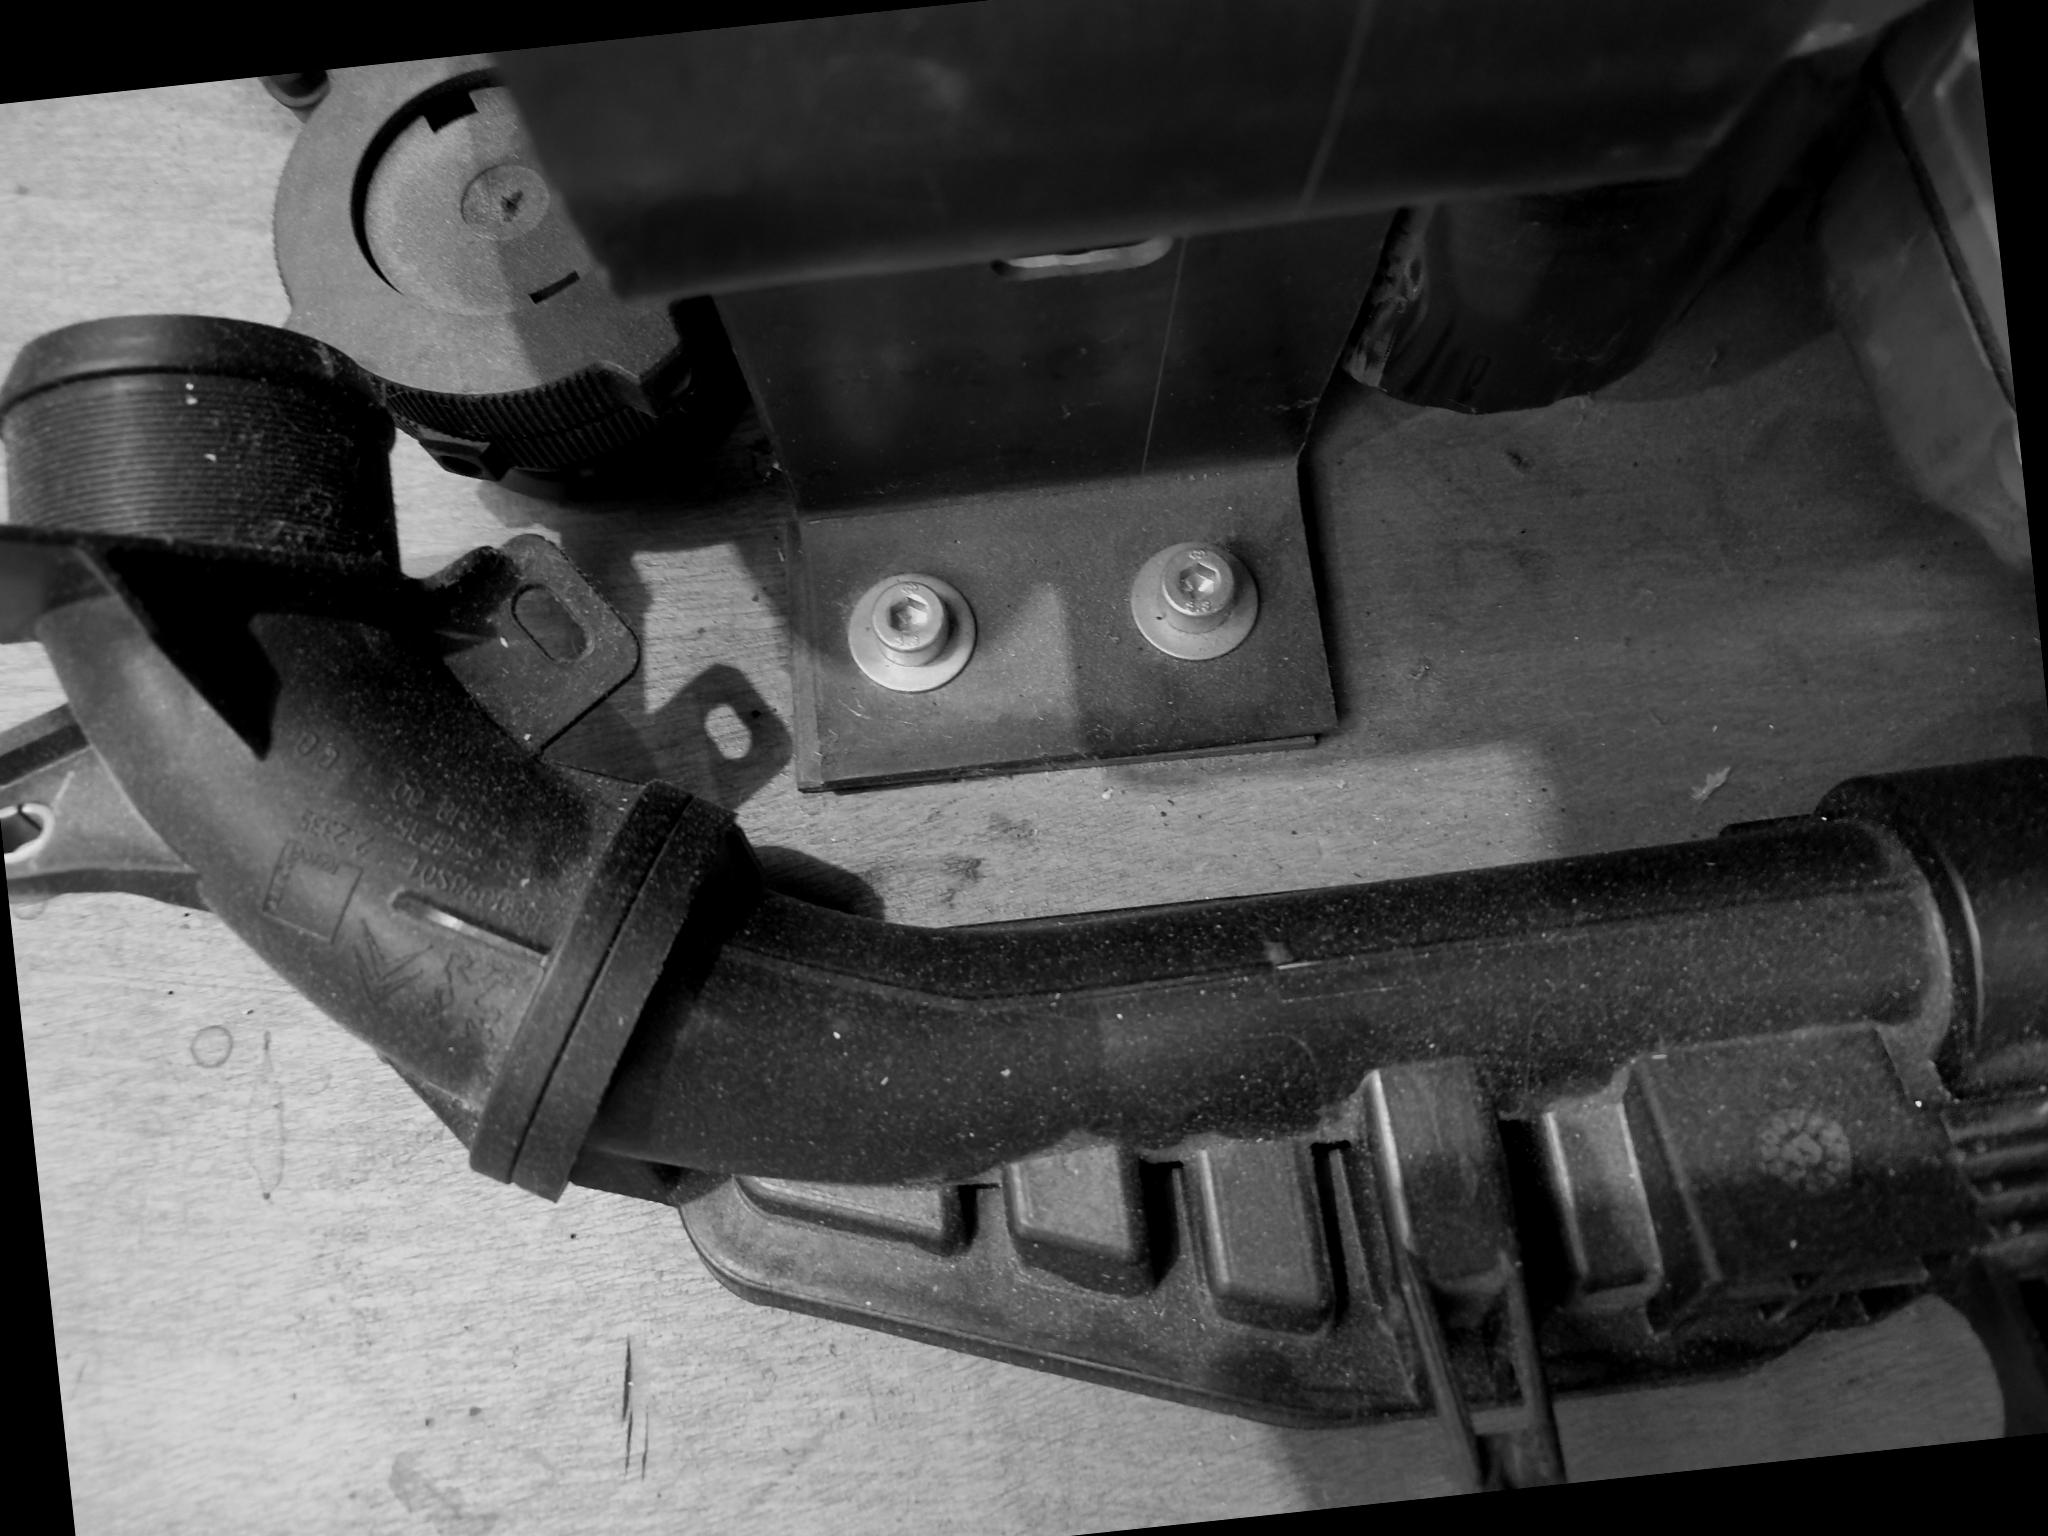allen: (1108, 528, 1277, 678), (835, 563, 989, 707)
